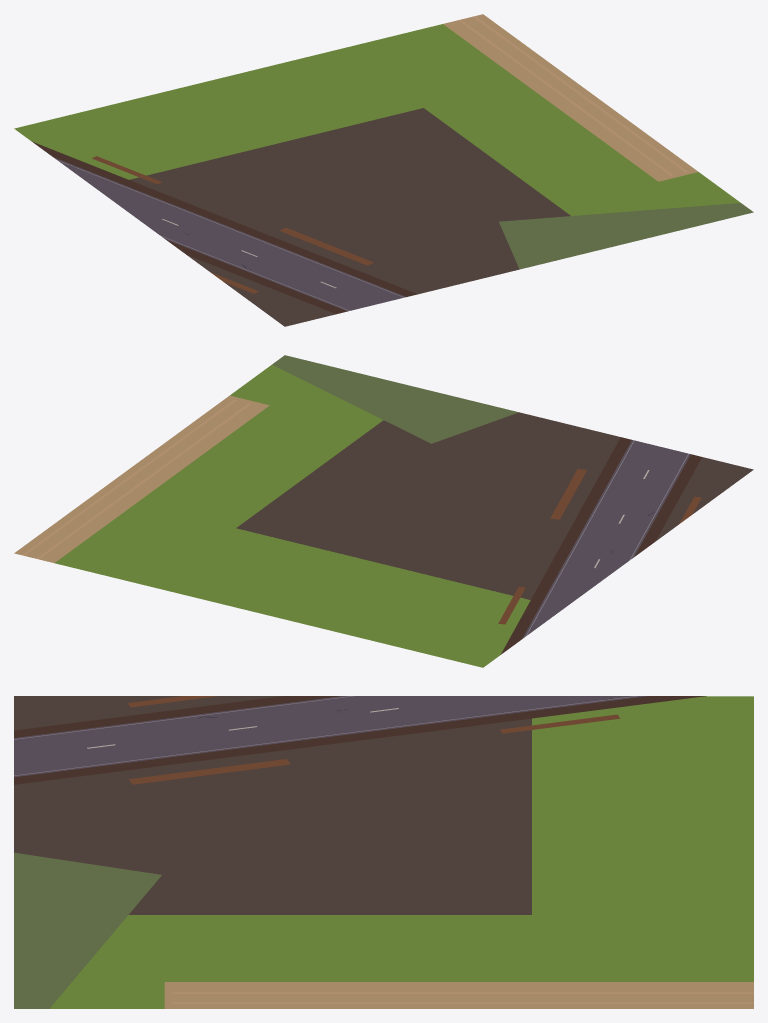
Rendered from crossing-10-2.glb.
The picture shows the model from 3 angles, top to bottom: view 1: azimuth 30°, elevation 25°; view 2: azimuth 150°, elevation 25°; view 3: azimuth 270°, elevation 25°; orthographic projection. The views are drawn at different scales.
Parts seen in each view (by area): view 1: crossing-10-2; view 2: crossing-10-2; view 3: crossing-10-2.
Part boxes in pixels (bbox=[...]): crossing-10-2: bbox=[14, 14, 753, 326]; crossing-10-2: bbox=[14, 355, 753, 667]; crossing-10-2: bbox=[14, 696, 753, 1008].
Size of the model in its own units: 100 by 0.0145 by 100.
